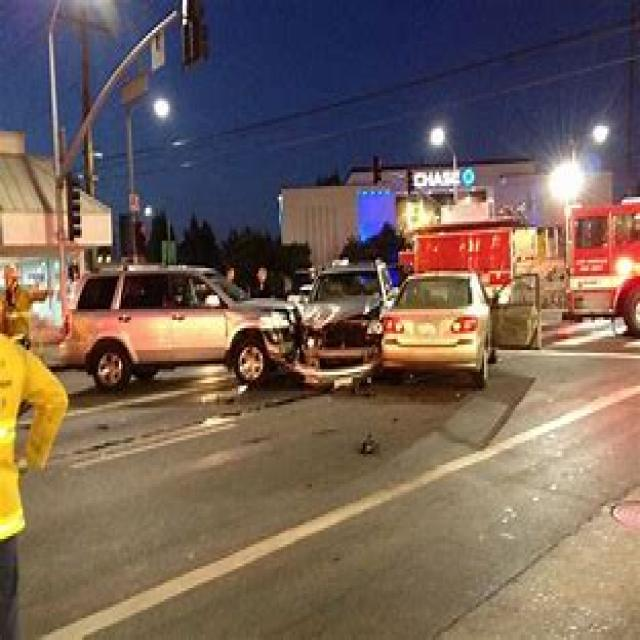Accident: (148, 172, 588, 466)
